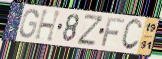8: (62, 13, 81, 43)
C: (120, 18, 144, 52)
F: (100, 17, 126, 48)
G: (18, 8, 40, 40)
H: (33, 9, 63, 43)
Z: (76, 13, 105, 47)
